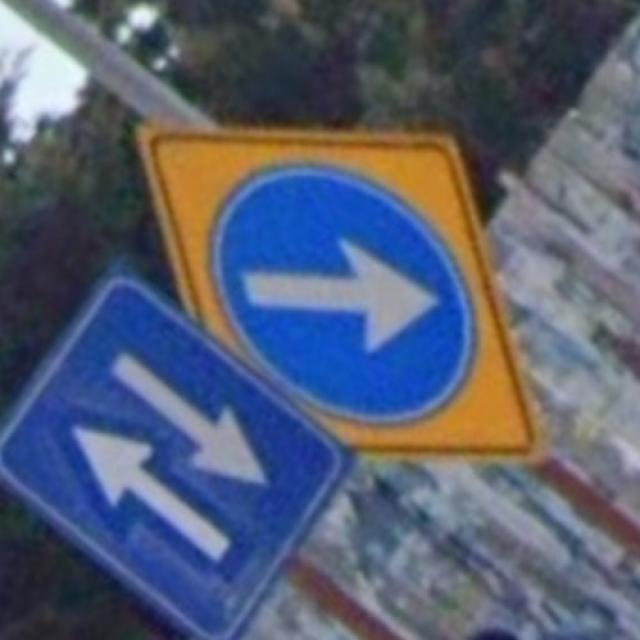Turn Right: (206, 164, 481, 409)
